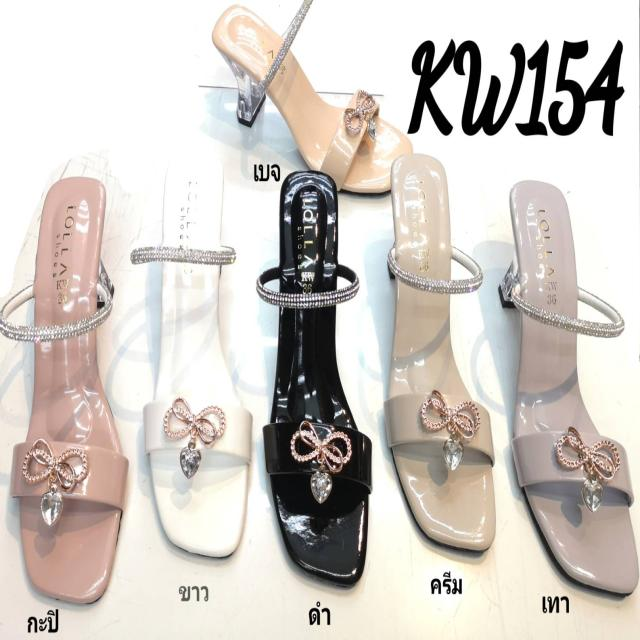bej: (210, 7, 414, 198)
black: (276, 171, 370, 580)
cream: (392, 154, 494, 549)
grey: (507, 184, 640, 598)
kapi: (17, 178, 127, 600)
white: (154, 146, 250, 554)
